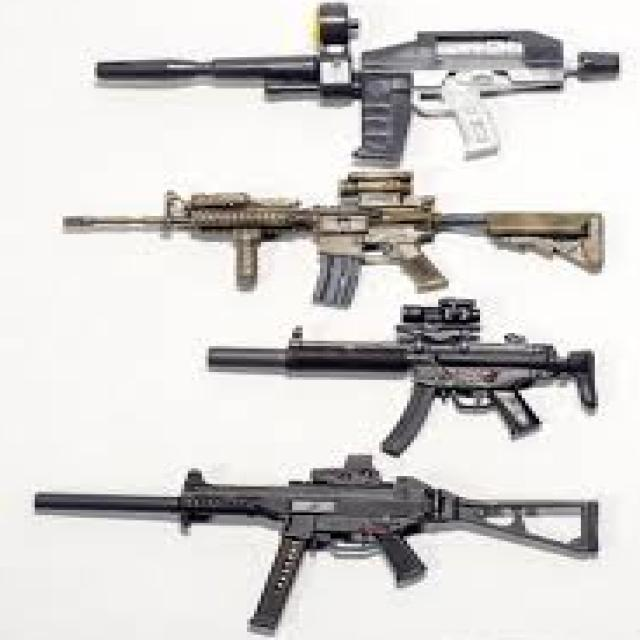Gun: (31, 422, 623, 638), (170, 302, 640, 471)
